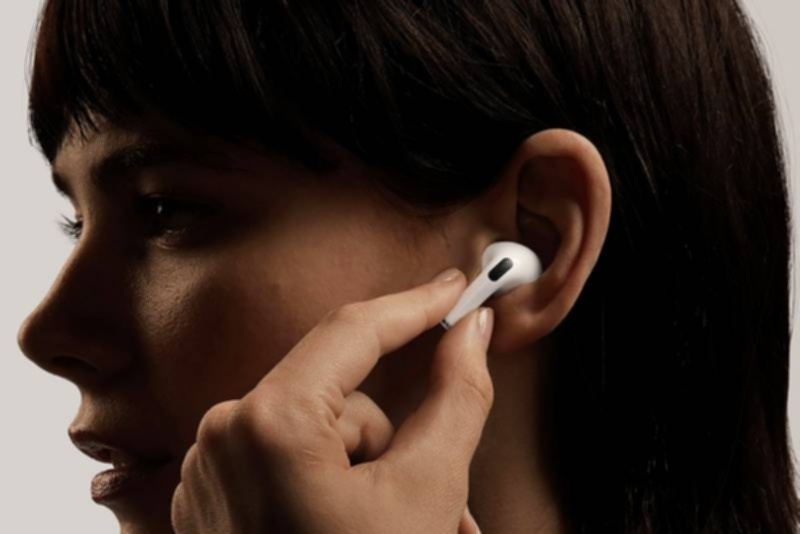earphone: (438, 129, 613, 358)
